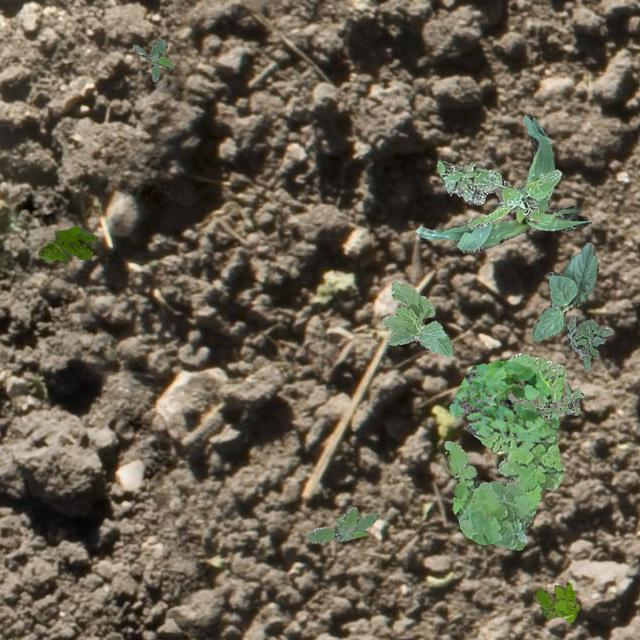crop: (416, 112, 588, 252), (532, 242, 598, 341), (382, 280, 452, 356)
weed: (442, 352, 566, 548), (448, 358, 558, 451), (436, 160, 562, 227), (507, 381, 582, 418), (304, 506, 378, 542), (566, 314, 610, 370), (36, 224, 98, 260), (534, 580, 578, 622), (132, 38, 174, 80)
